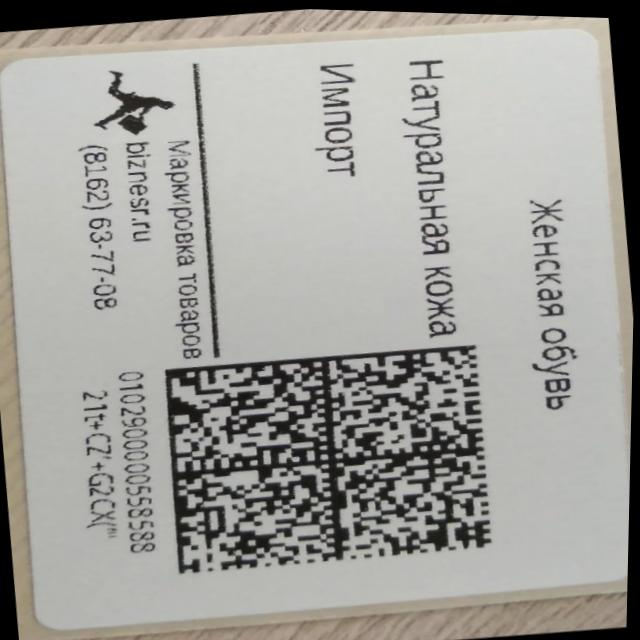datamatrix: (157, 332, 505, 585)
